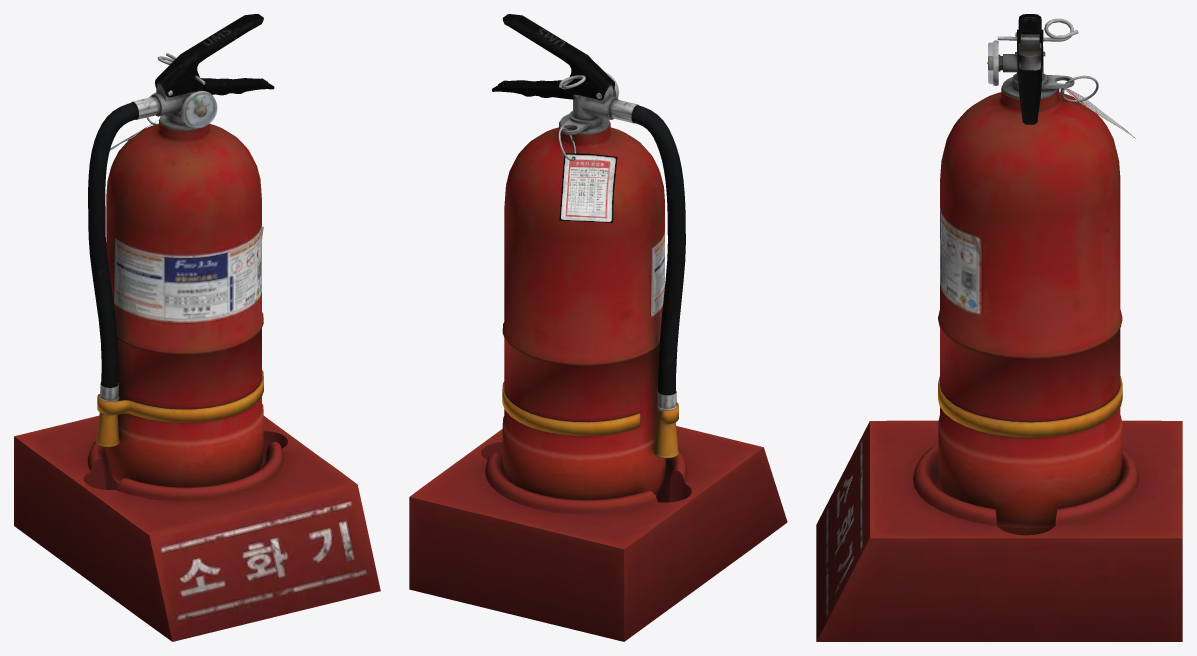
File: korean_fire_extinguisher_01.glb
3 renders of one model, left to right at view 1: azimuth 30°, elevation 25°; view 2: azimuth 150°, elevation 25°; view 3: azimuth 270°, elevation 25°, orthographic. The views are drawn at different scales.
Parts seen in each view (by area): view 1: korean_fire_extinguisher_01; view 2: korean_fire_extinguisher_01; view 3: korean_fire_extinguisher_01.
Boxes of the visible parts, x1,y1,x2,y2 form: korean_fire_extinguisher_01: [14, 14, 380, 641]; korean_fire_extinguisher_01: [409, 14, 787, 641]; korean_fire_extinguisher_01: [816, 14, 1182, 641].
Bounding box in the file's own units: 0.2799 × 0.6593 × 0.3674.
Materials: 3 (3 with a texture image).
